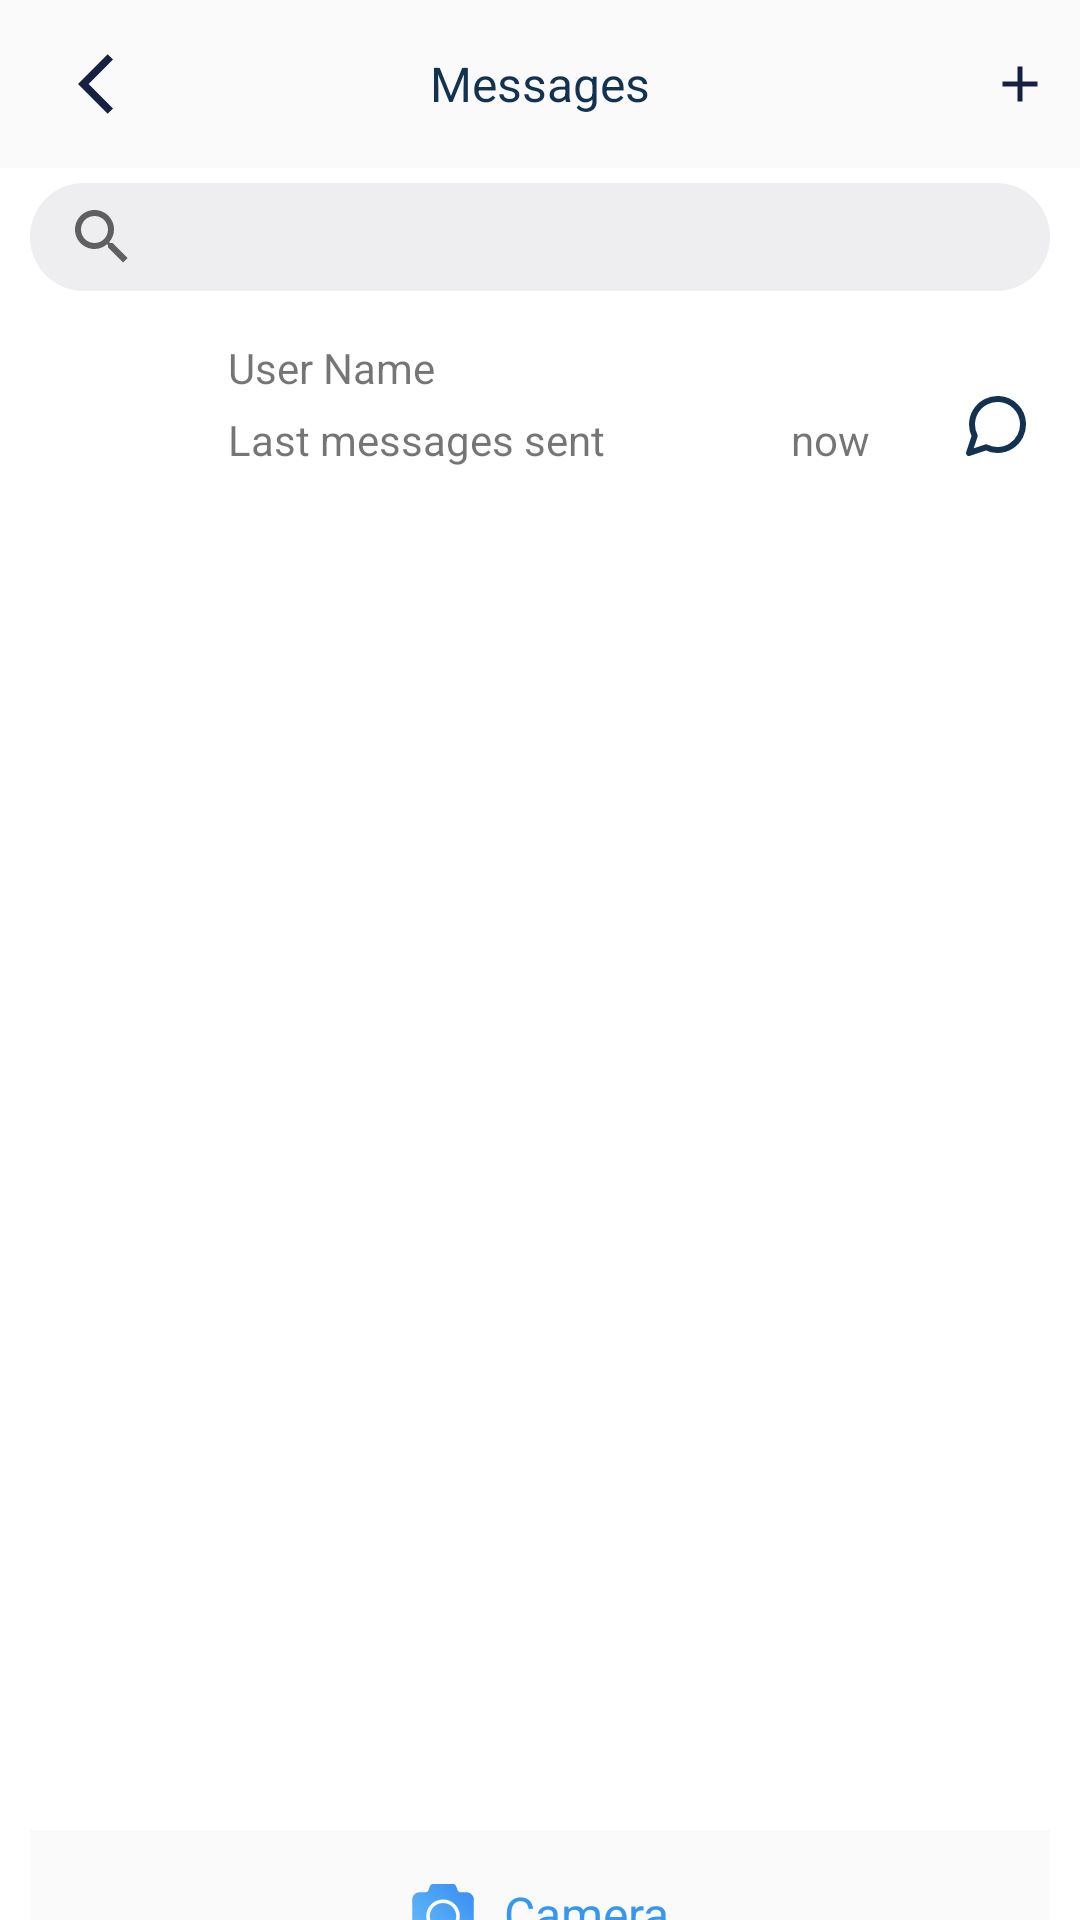

Point at icon controls on the screen. Image size 1080px×1920px, points as (x=x, y=y).
add chat: (x=1020, y=84)
back arrow: (x=95, y=84)
chat message circle: (x=996, y=426)
